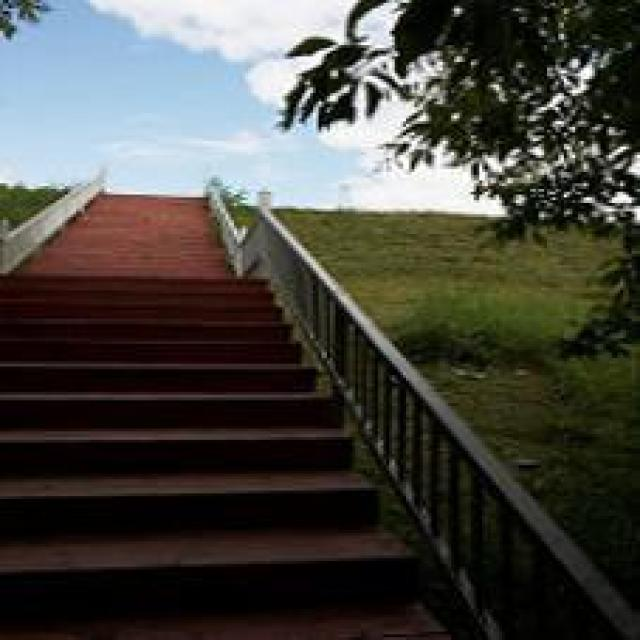upstair: (3, 279, 386, 637)
